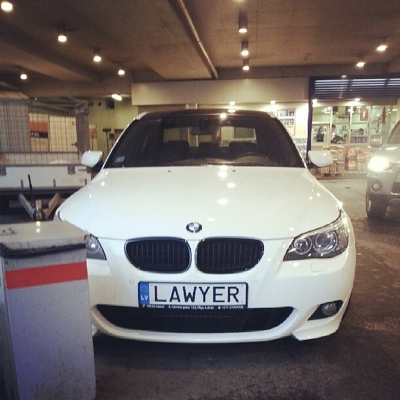Plate: (136, 279, 249, 310)
